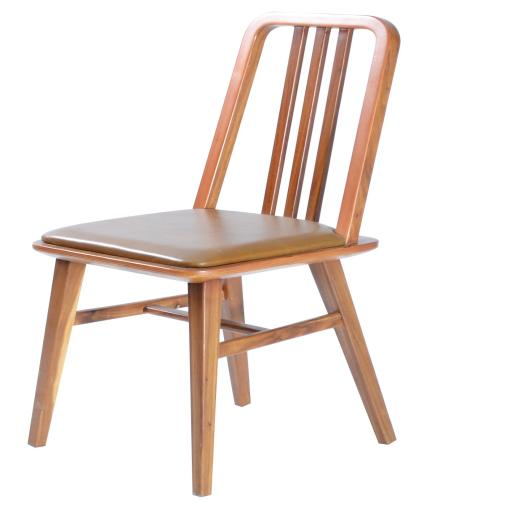chair: (22, 16, 426, 492)
